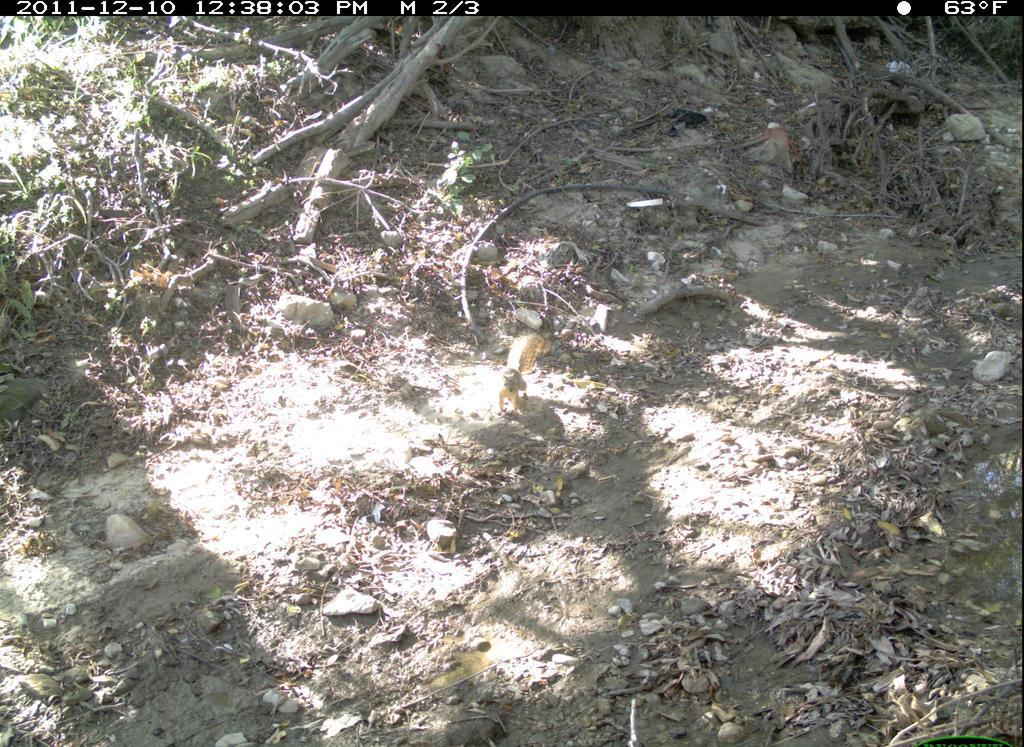squirrel: (495, 329, 547, 424)
